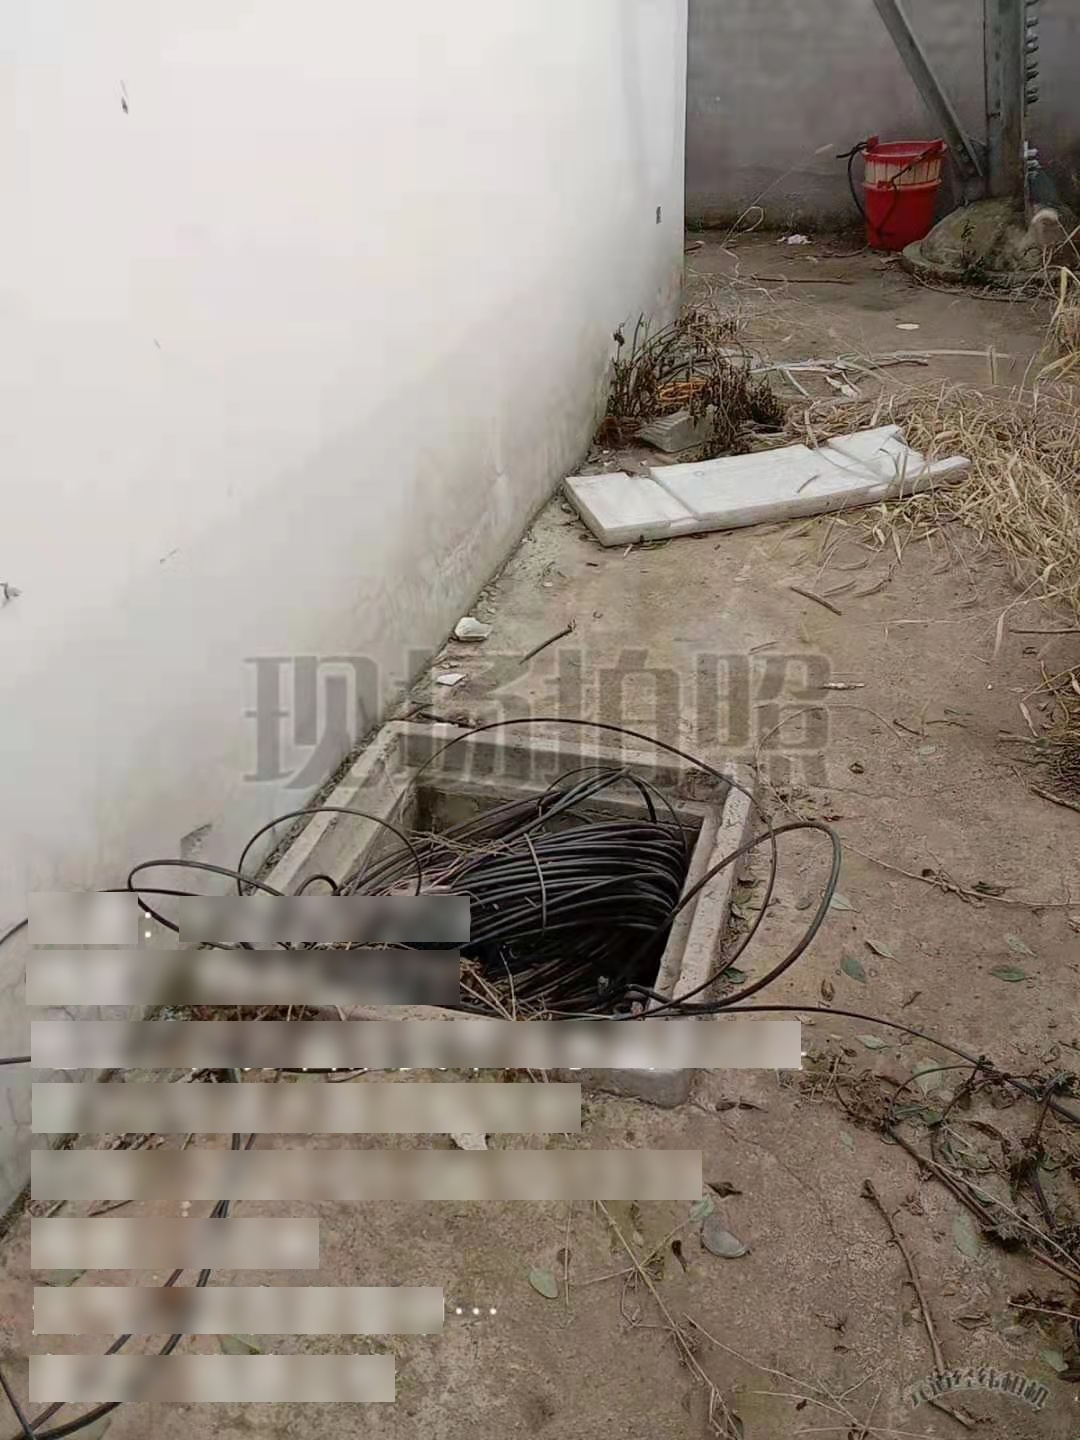lose: (186, 720, 758, 1111)
